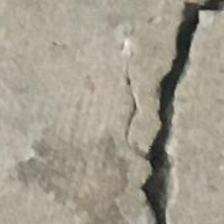Crack: (126, 0, 224, 224)
